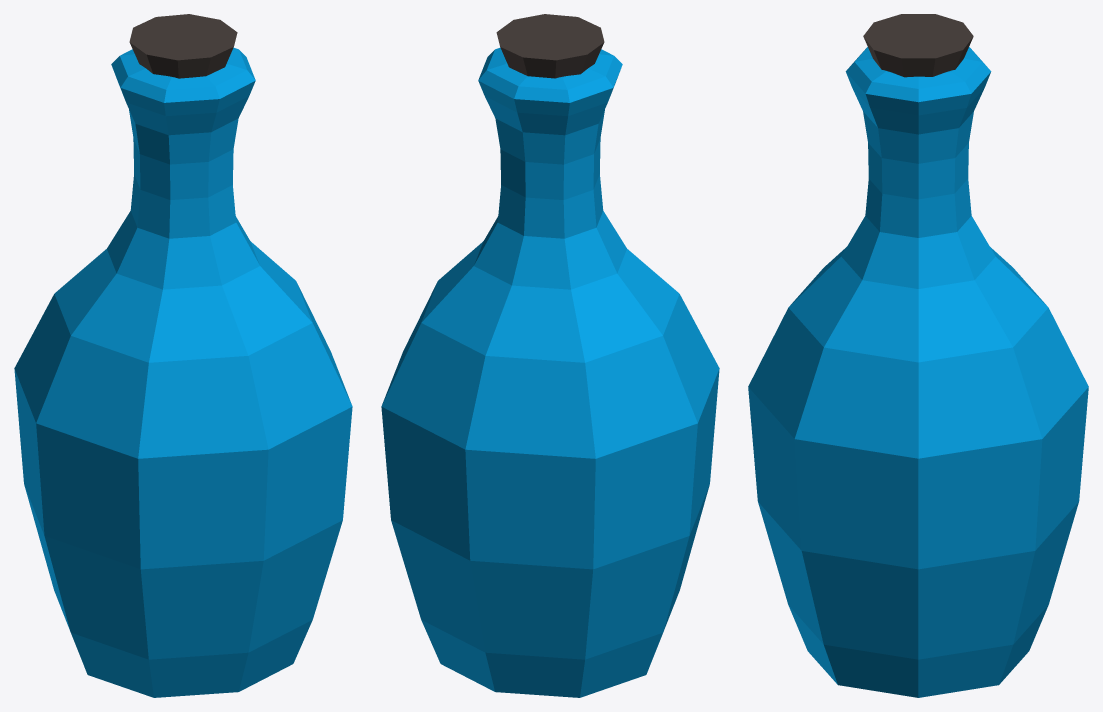
File: Mana_Potion_001.fbx
3 renders of one model, left to right at view 1: azimuth 30°, elevation 25°; view 2: azimuth 150°, elevation 25°; view 3: azimuth 270°, elevation 25°, orthographic.
Visible parts, largest first — view 1: Mana Potion.001; view 2: Mana Potion.001; view 3: Mana Potion.001.
Boxes of the visible parts, <box> form: Mana Potion.001: <box>14,14,352,697</box>; Mana Potion.001: <box>381,14,719,697</box>; Mana Potion.001: <box>748,14,1088,697</box>.
Bounding box in the file's own units: 22.89 × 46.26 × 22.89.
